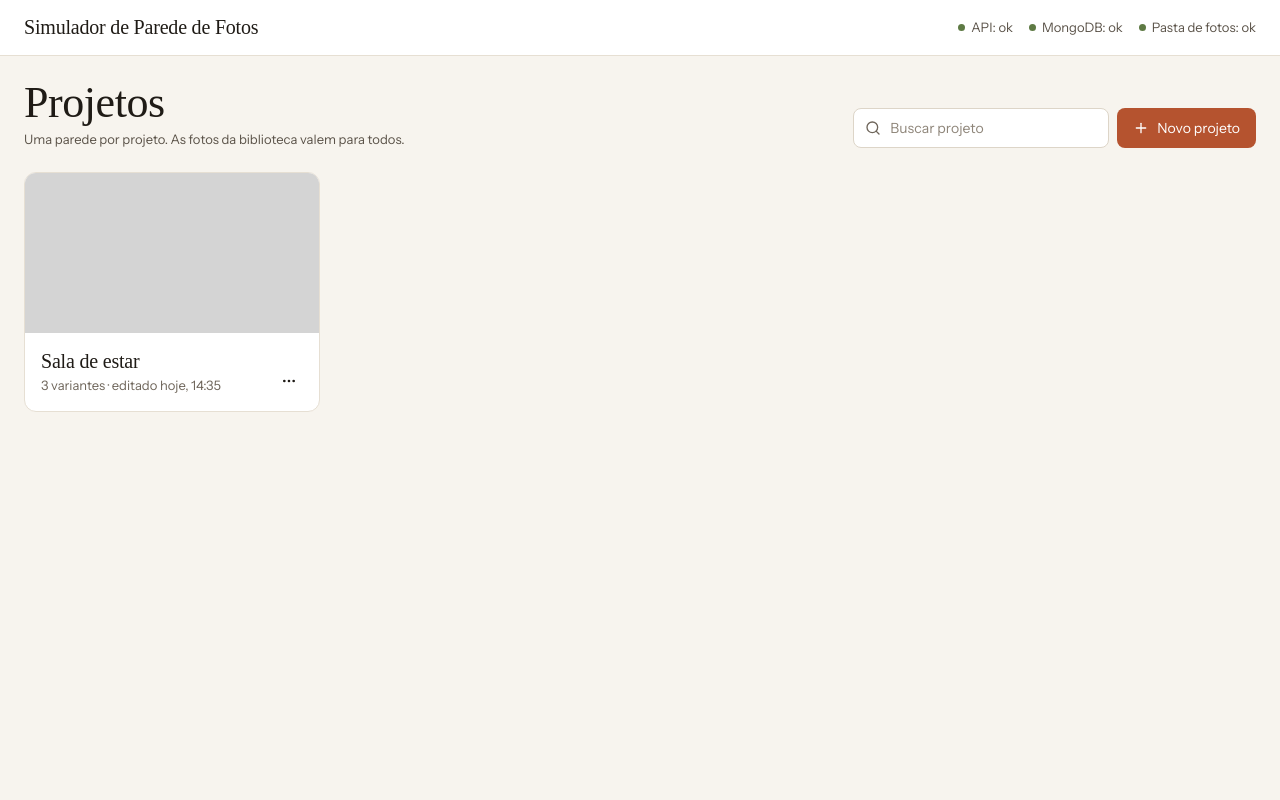
Test: Renomear (menu ⋯) › abre o diálogo com o nome atual, grava e atualiza o card
Expected: the heading "Sala de estar" is shown, [41,350,140,372]
Press Enter in the button named "Mais ações de Sala de estar", box [271,363,307,399]
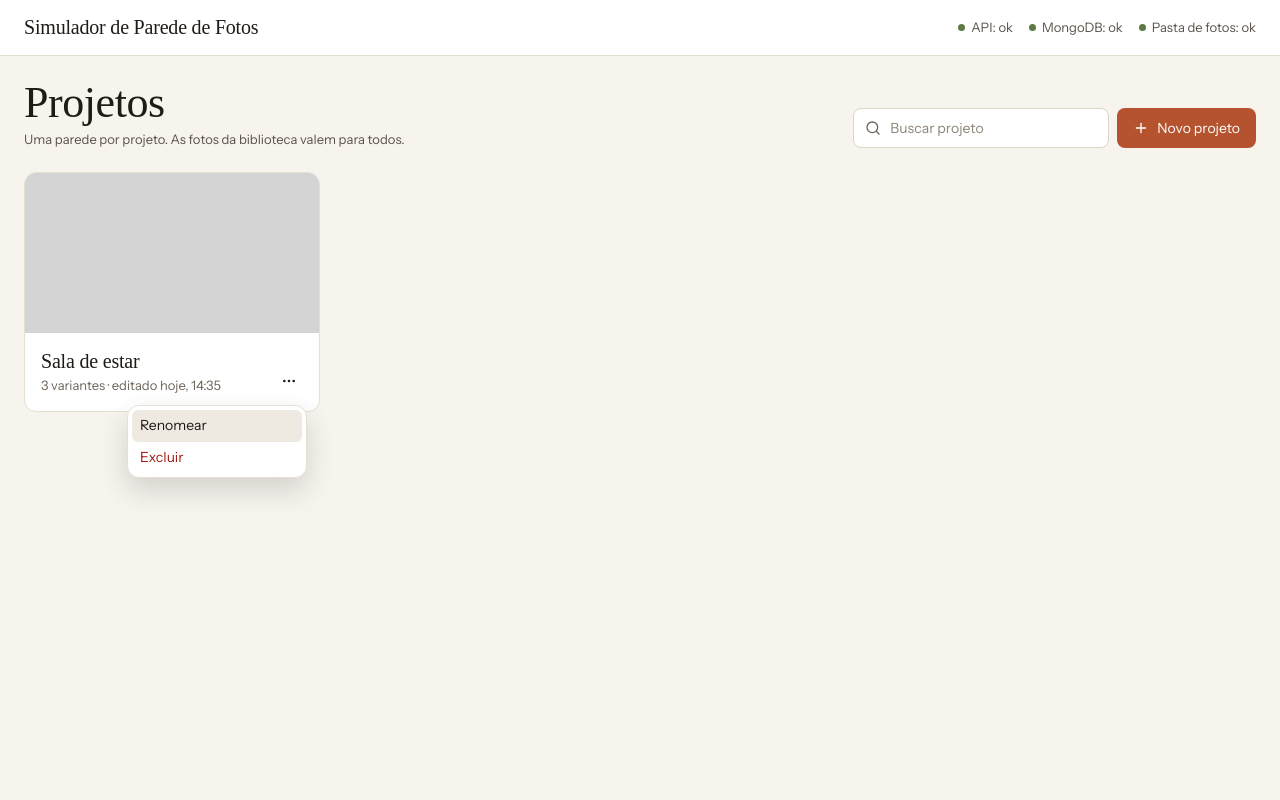
Click the menu item "Renomear" at (217,426), box [132,410,302,442]
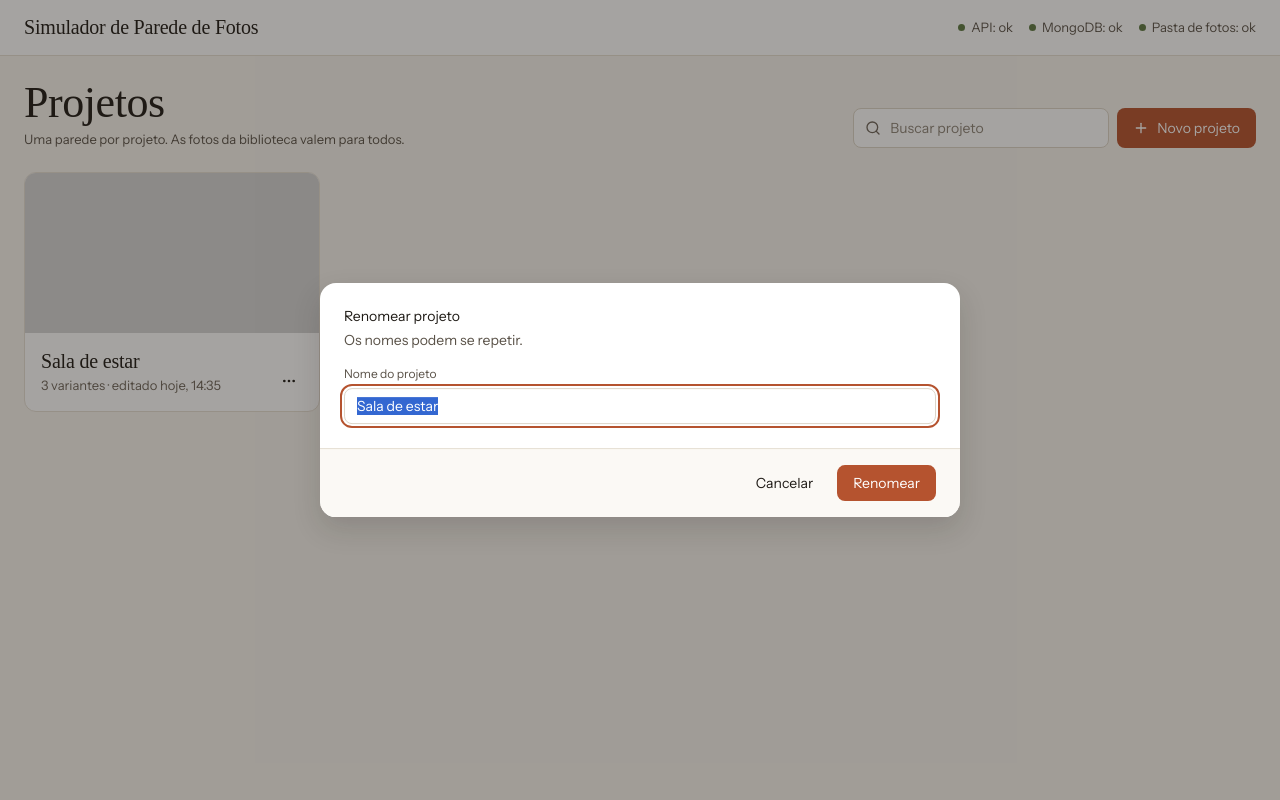
Result: the field labelled "Nome do projeto" holds "Sala de estar"
Replace the text in the field labelled "Nome do projeto" with "Sala nova" at (640,406), box [344,388,936,424]
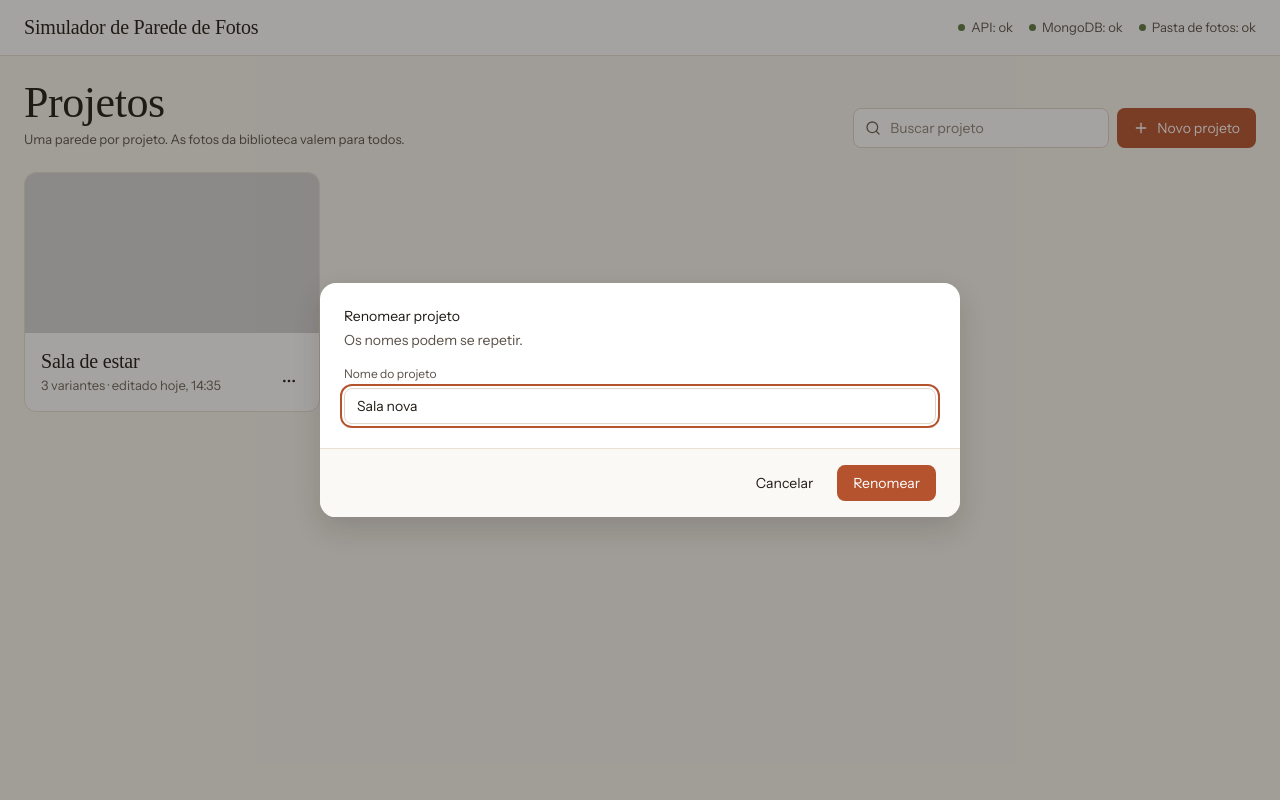
Click the button "Renomear" at (887,483), box [837,465,936,501]
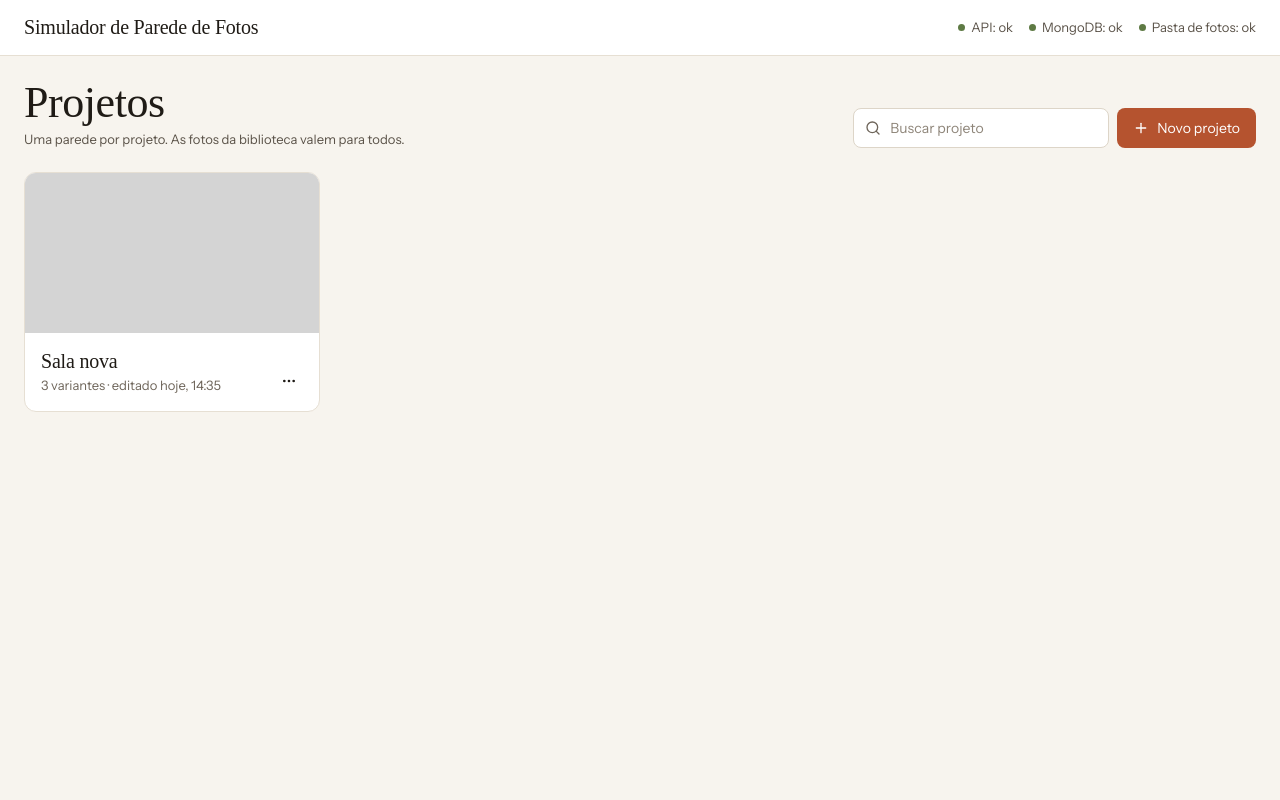
Result: the heading "Sala nova" is shown at [41,350,118,372]
Result: the dialog is gone
